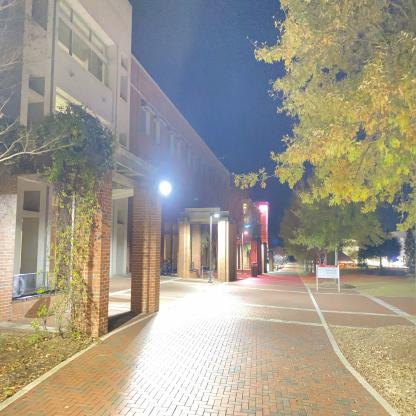eb2: (1, 3, 261, 280)
